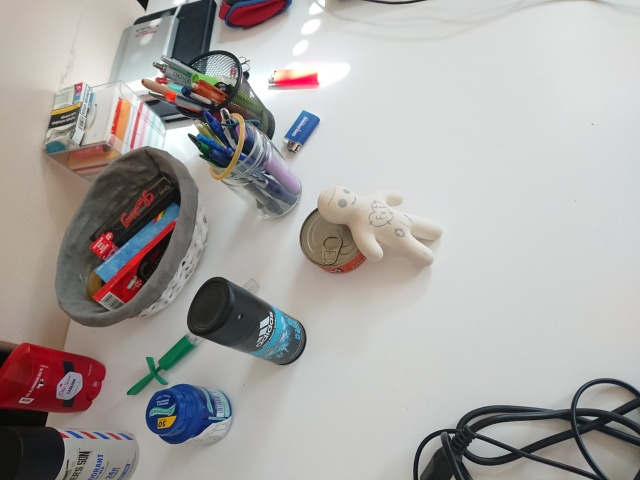Gavrilovic Pork Liver Pate 100g: (297, 200, 370, 276)
